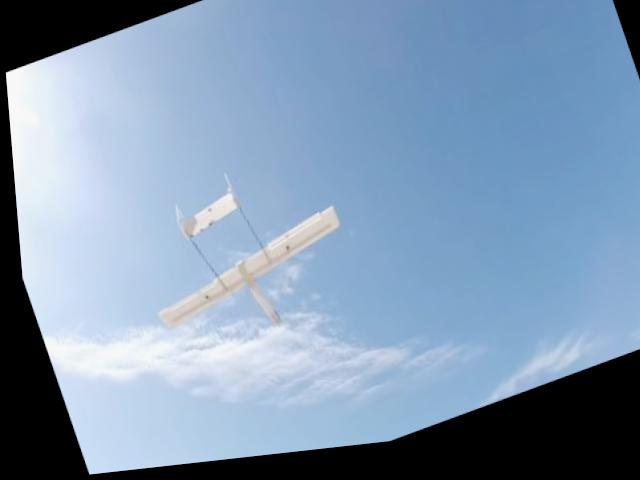uav: (113, 136, 372, 382)
